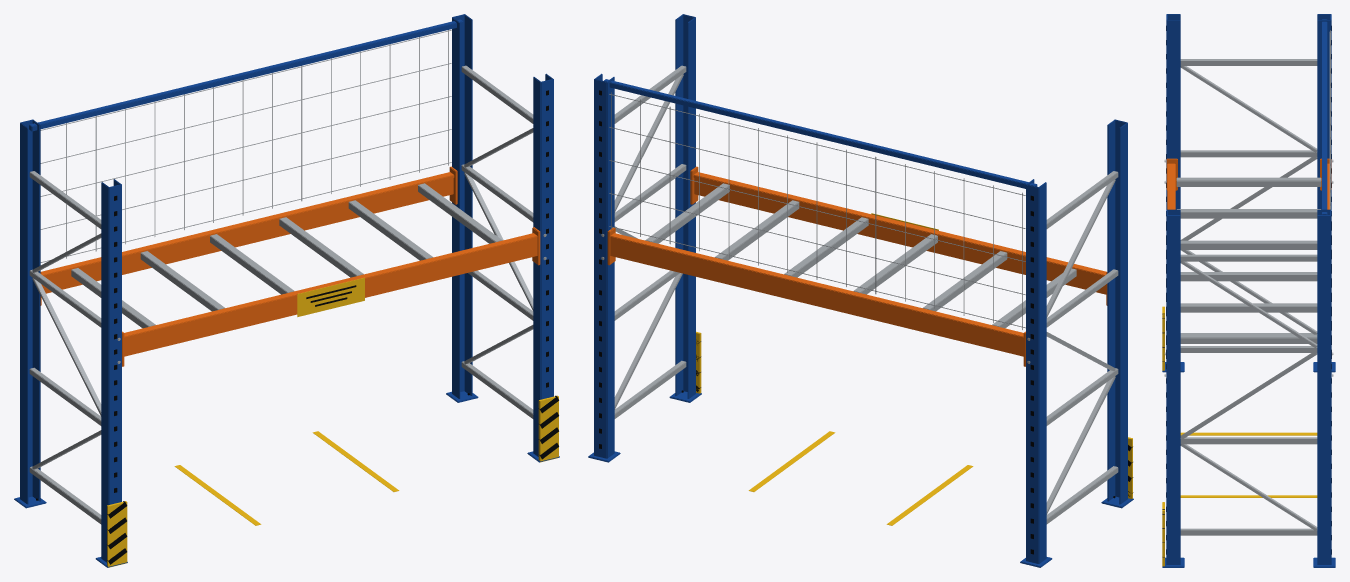
File: shelf_pallet.glb
3 views of the same model, side by side, from view 1: azimuth 30°, elevation 25°; view 2: azimuth 150°, elevation 25°; view 3: azimuth 270°, elevation 25° (orthographic). The views are drawn at different scales.
Visible parts, largest first — view 1: PC_Blue, PC_Galv, PC_Orange, PC_Yellow, PC_Black; view 2: PC_Blue, PC_Galv, PC_Orange, PC_Yellow, PC_Black; view 3: PC_Galv, PC_Blue, PC_Yellow, PC_Orange, PC_Black.
Boxes of the visible parts, <box> form: PC_Blue: <box>14,14,559,567</box>; PC_Galv: <box>29,30,546,524</box>; PC_Orange: <box>40,166,540,366</box>; PC_Yellow: <box>107,277,558,567</box>; PC_Black: <box>36,90,558,564</box>; PC_Blue: <box>588,14,1133,567</box>; PC_Galv: <box>601,65,1118,524</box>; PC_Orange: <box>607,166,1107,366</box>; PC_Yellow: <box>696,213,1132,525</box>; PC_Black: <box>599,90,1133,554</box>; PC_Galv: <box>1164,30,1333,535</box>; PC_Blue: <box>1162,14,1335,567</box>; PC_Yellow: <box>1162,306,1317,566</box>; PC_Orange: <box>1166,158,1331,209</box>; PC_Black: <box>1162,26,1331,557</box>.
Bounding box in the file's own units: 3.08 × 2.46 × 1.1.
